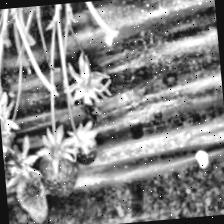Gray Mold: (1, 133, 50, 224)
